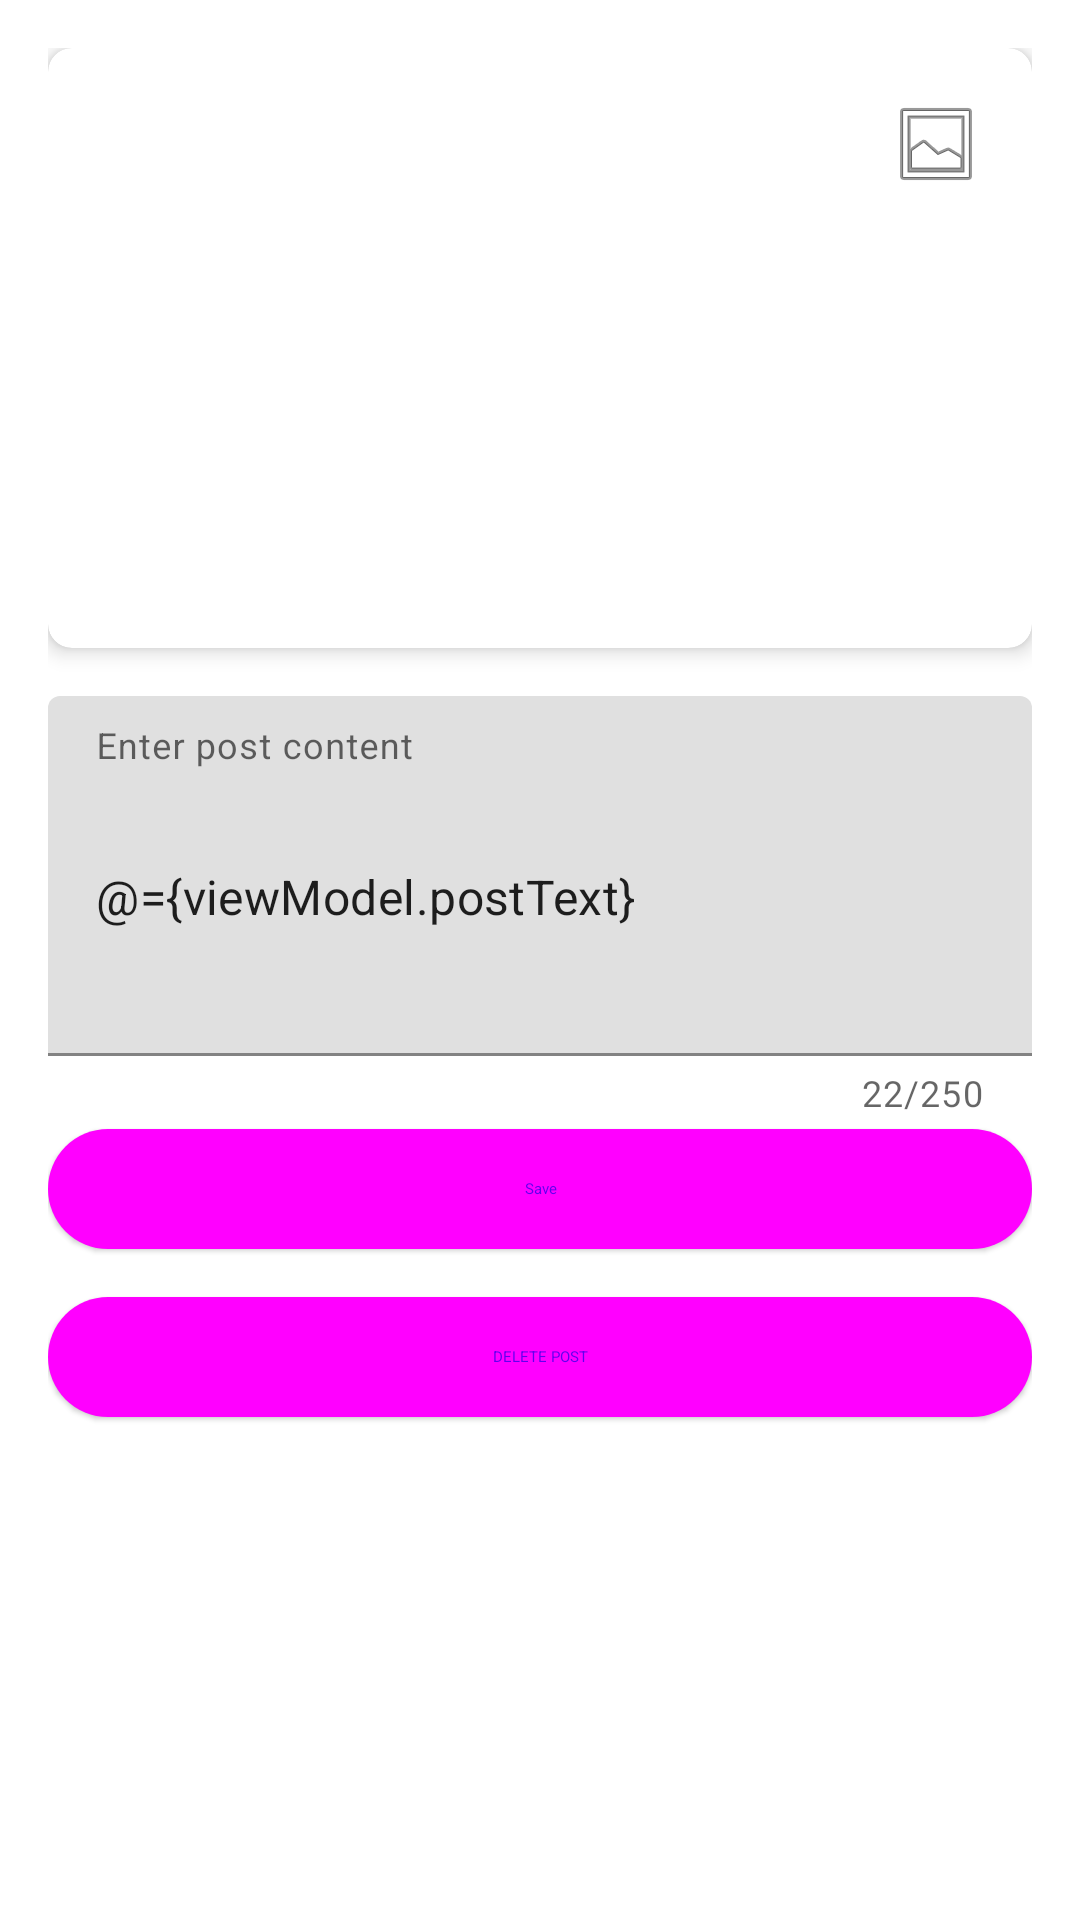

Point at icon controls on the screen. Image size 1080 x 1920, points as [x,y].
Choose image from gallery: [936,144]
